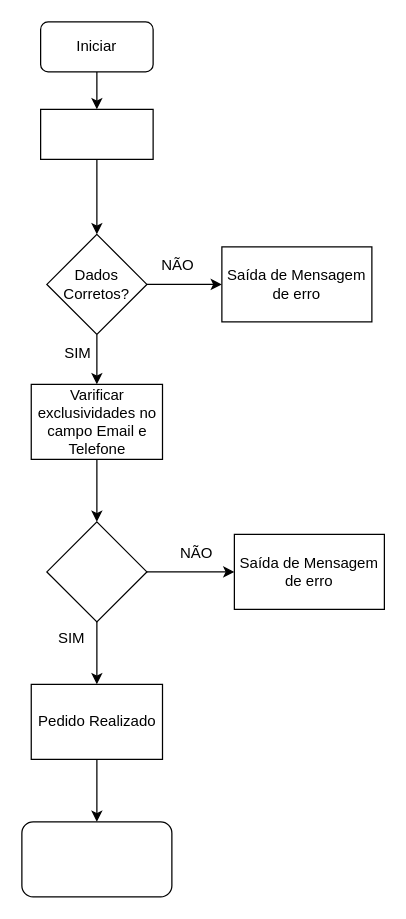
Some shapes in this 406 by 919 pixel diagram are drawn without their labels. The centre of each missing label's shape, as x and y in pixels:
Dados são Exclusivos?: the point at 96,571
FIM: the point at 96,859
Usuário apertou o Botão Pedir?: the point at 96,133
